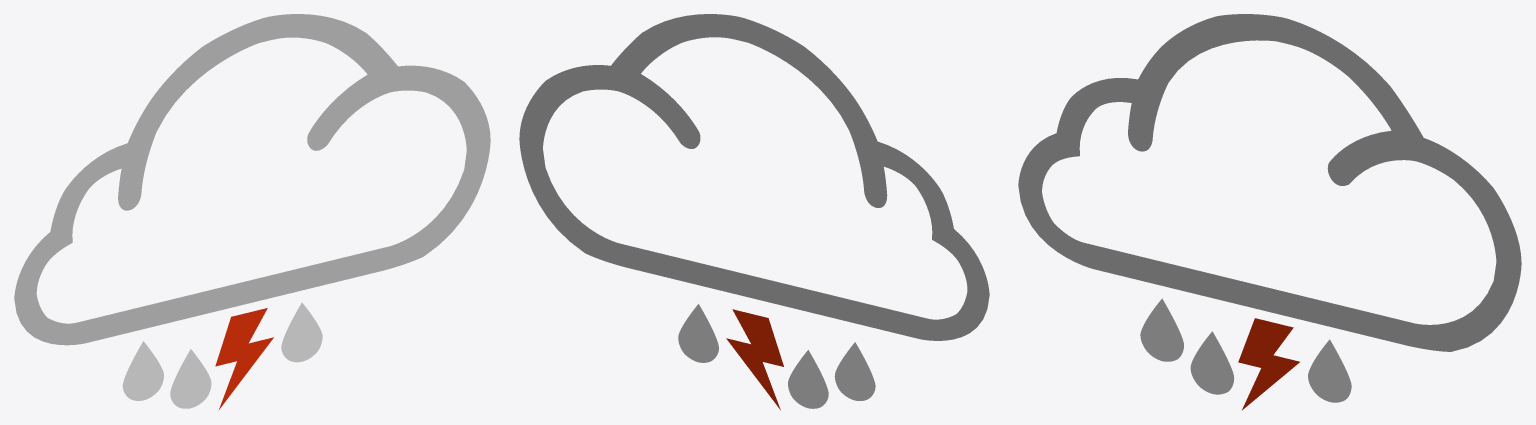
Rendered from tsrain.glb.
The picture shows the model from 3 angles, left to right: view 1: azimuth 30°, elevation 25°; view 2: azimuth 150°, elevation 25°; view 3: azimuth 330°, elevation 25°; orthographic projection. The views are drawn at different scales.
Parts seen in each view (by area): view 1: Cloud.017, Thunder.001, rain drop.010, rain drop.012, rain drop.011; view 2: Cloud.017, Thunder.001, rain drop.010, rain drop.011, rain drop.012; view 3: Cloud.017, Thunder.001, rain drop.010, rain drop.012, rain drop.011.
Part boxes in pixels (x1,y1,x2,y2): Cloud.017: [14, 14, 490, 345]; Thunder.001: [215, 308, 273, 410]; rain drop.010: [170, 349, 211, 408]; rain drop.012: [281, 302, 322, 362]; rain drop.011: [122, 341, 163, 400]; Cloud.017: [519, 14, 989, 340]; Thunder.001: [726, 309, 783, 410]; rain drop.010: [788, 350, 828, 408]; rain drop.011: [834, 342, 875, 400]; rain drop.012: [678, 304, 718, 362]; Cloud.017: [1018, 14, 1521, 351]; Thunder.001: [1238, 318, 1299, 410]; rain drop.010: [1190, 331, 1234, 394]; rain drop.012: [1308, 339, 1351, 402]; rain drop.011: [1140, 298, 1183, 361].
Bounding box in the file's own units: 0.6611 × 0.5112 × 0.00853.
